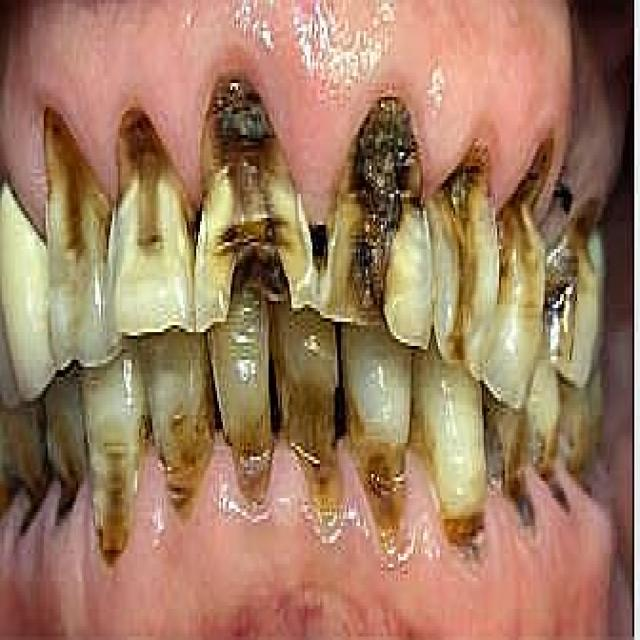caries: (190, 65, 314, 318), (319, 81, 435, 340), (107, 90, 190, 276), (428, 129, 495, 359), (34, 103, 111, 274), (341, 383, 408, 554), (491, 123, 549, 317), (279, 360, 345, 515), (148, 392, 221, 522), (92, 414, 144, 567), (226, 379, 282, 508), (486, 396, 538, 527), (542, 173, 578, 359), (434, 478, 491, 584), (533, 412, 579, 530), (41, 412, 88, 526), (6, 438, 48, 546), (572, 182, 606, 298)
